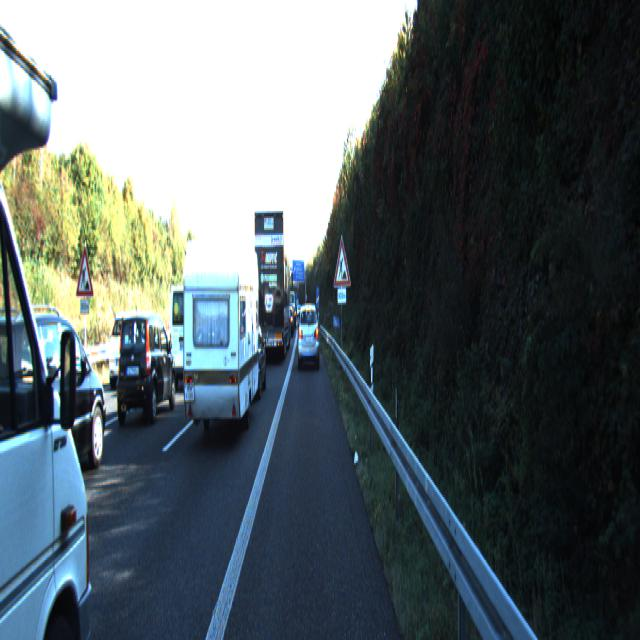Car: (0, 0, 119, 639), (0, 308, 110, 531), (182, 230, 259, 451), (115, 310, 177, 425), (168, 281, 221, 390), (255, 208, 291, 362), (109, 308, 157, 388), (229, 314, 268, 399), (298, 300, 320, 368)
